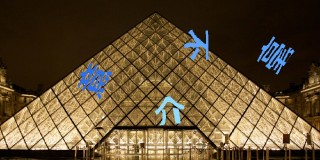不: (182, 26, 211, 64)
介: (156, 96, 185, 126)
意: (78, 62, 113, 100)
毫: (255, 35, 297, 75)
